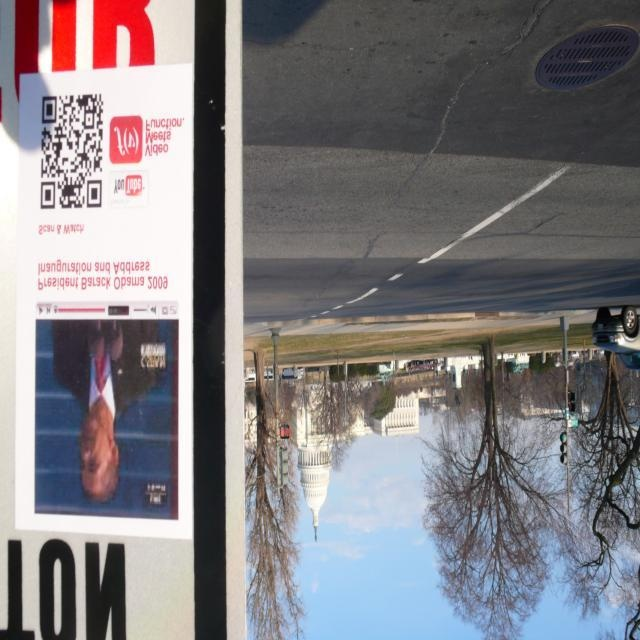qr-code: (41, 94, 104, 209)
